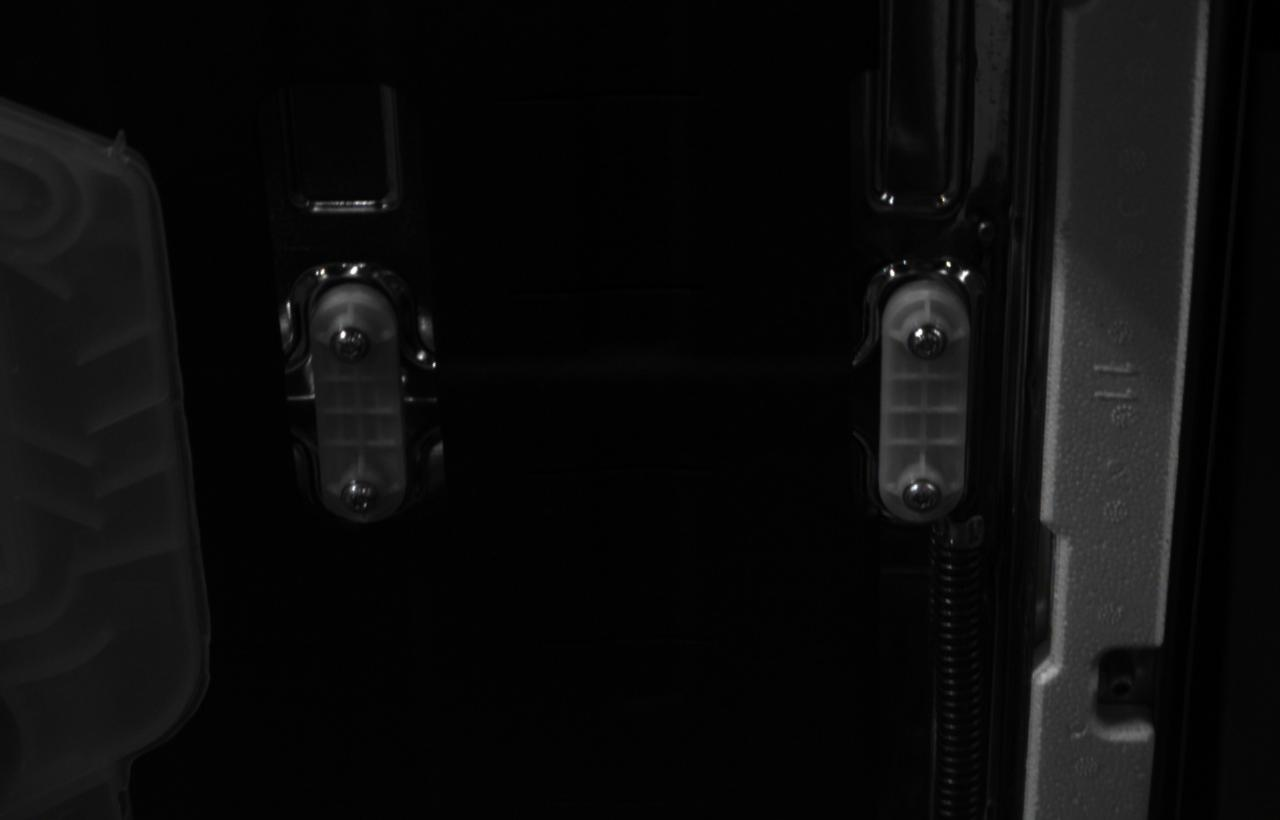vida-ok: (907, 323, 948, 362), (902, 479, 942, 514), (331, 327, 367, 363), (341, 480, 378, 513)
